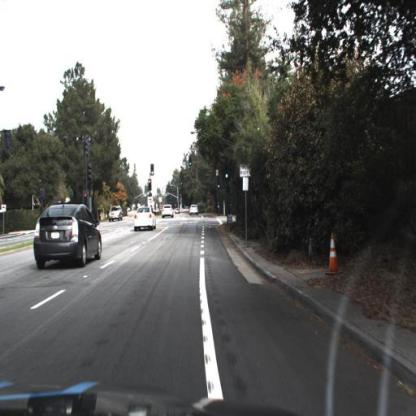car: (31, 201, 103, 281), (131, 206, 158, 235), (106, 202, 125, 227), (160, 203, 175, 224), (189, 200, 203, 221)
trafficLight-Green: (224, 162, 232, 185), (216, 177, 223, 195), (150, 162, 157, 179), (149, 164, 156, 179), (188, 154, 194, 170), (225, 169, 230, 183), (217, 180, 222, 193)
trafficLight-Red: (147, 178, 154, 191), (84, 191, 89, 209)
trafficLight-RedLeft: (82, 191, 93, 208), (148, 177, 155, 194)
